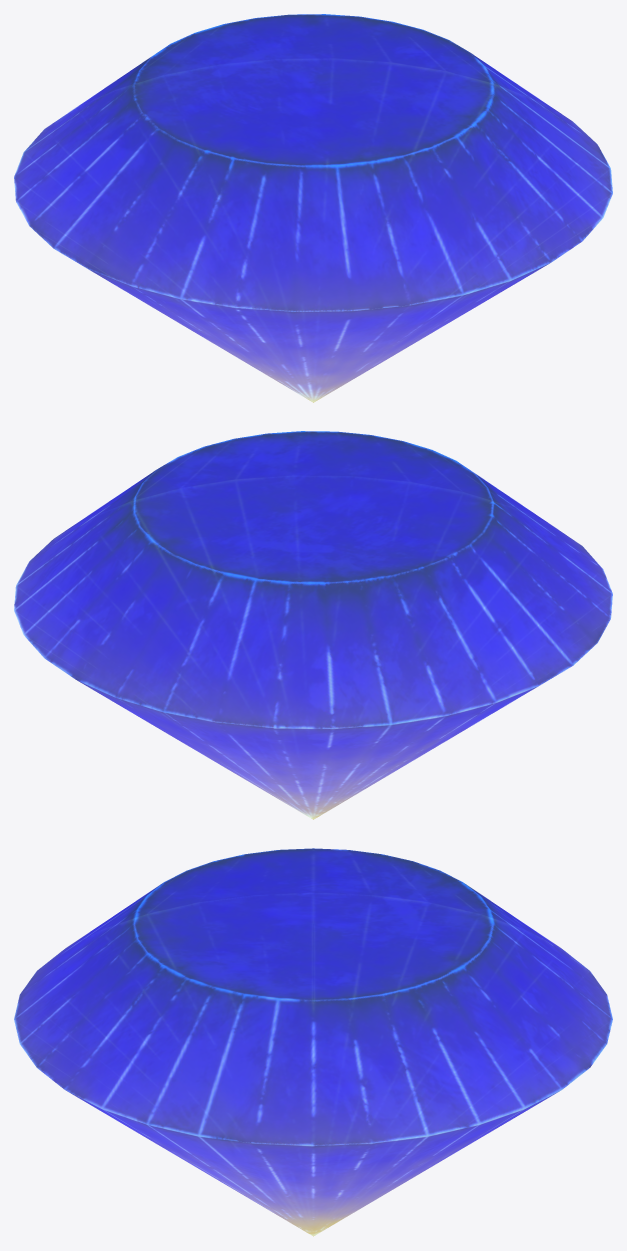
The model's file is crystal4.glb.
3 renders of one model, top to bottom at view 1: azimuth 30°, elevation 25°; view 2: azimuth 150°, elevation 25°; view 3: azimuth 270°, elevation 25°, orthographic.
Visible parts, largest first — view 1: Diamond; view 2: Diamond; view 3: Diamond.
Part boxes in pixels (x1,y1,x2,y2): Diamond: (14, 14, 612, 402); Diamond: (14, 431, 612, 819); Diamond: (14, 848, 612, 1236).
Size of the model in its own units: 2 by 1.15 by 2.
Materials: 1 (1 with a texture image).
